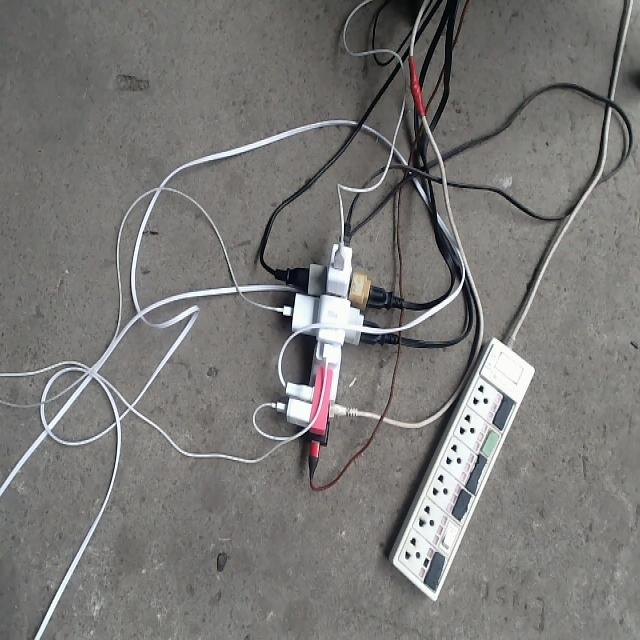-: (278, 240, 375, 445)
